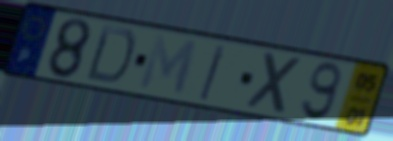8: (46, 16, 94, 81)
9: (299, 60, 345, 124)
D: (83, 22, 139, 87)
I: (197, 42, 230, 103)
M: (136, 32, 200, 99)
X: (244, 49, 307, 118)
